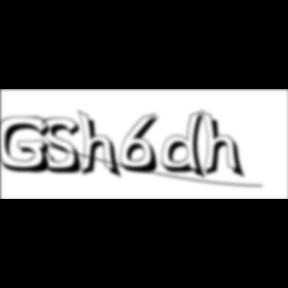6: (120, 112, 166, 176)
G: (1, 116, 58, 176)
S: (42, 117, 88, 176)
d: (162, 110, 212, 182)
h: (78, 108, 124, 182), (202, 108, 248, 182)
